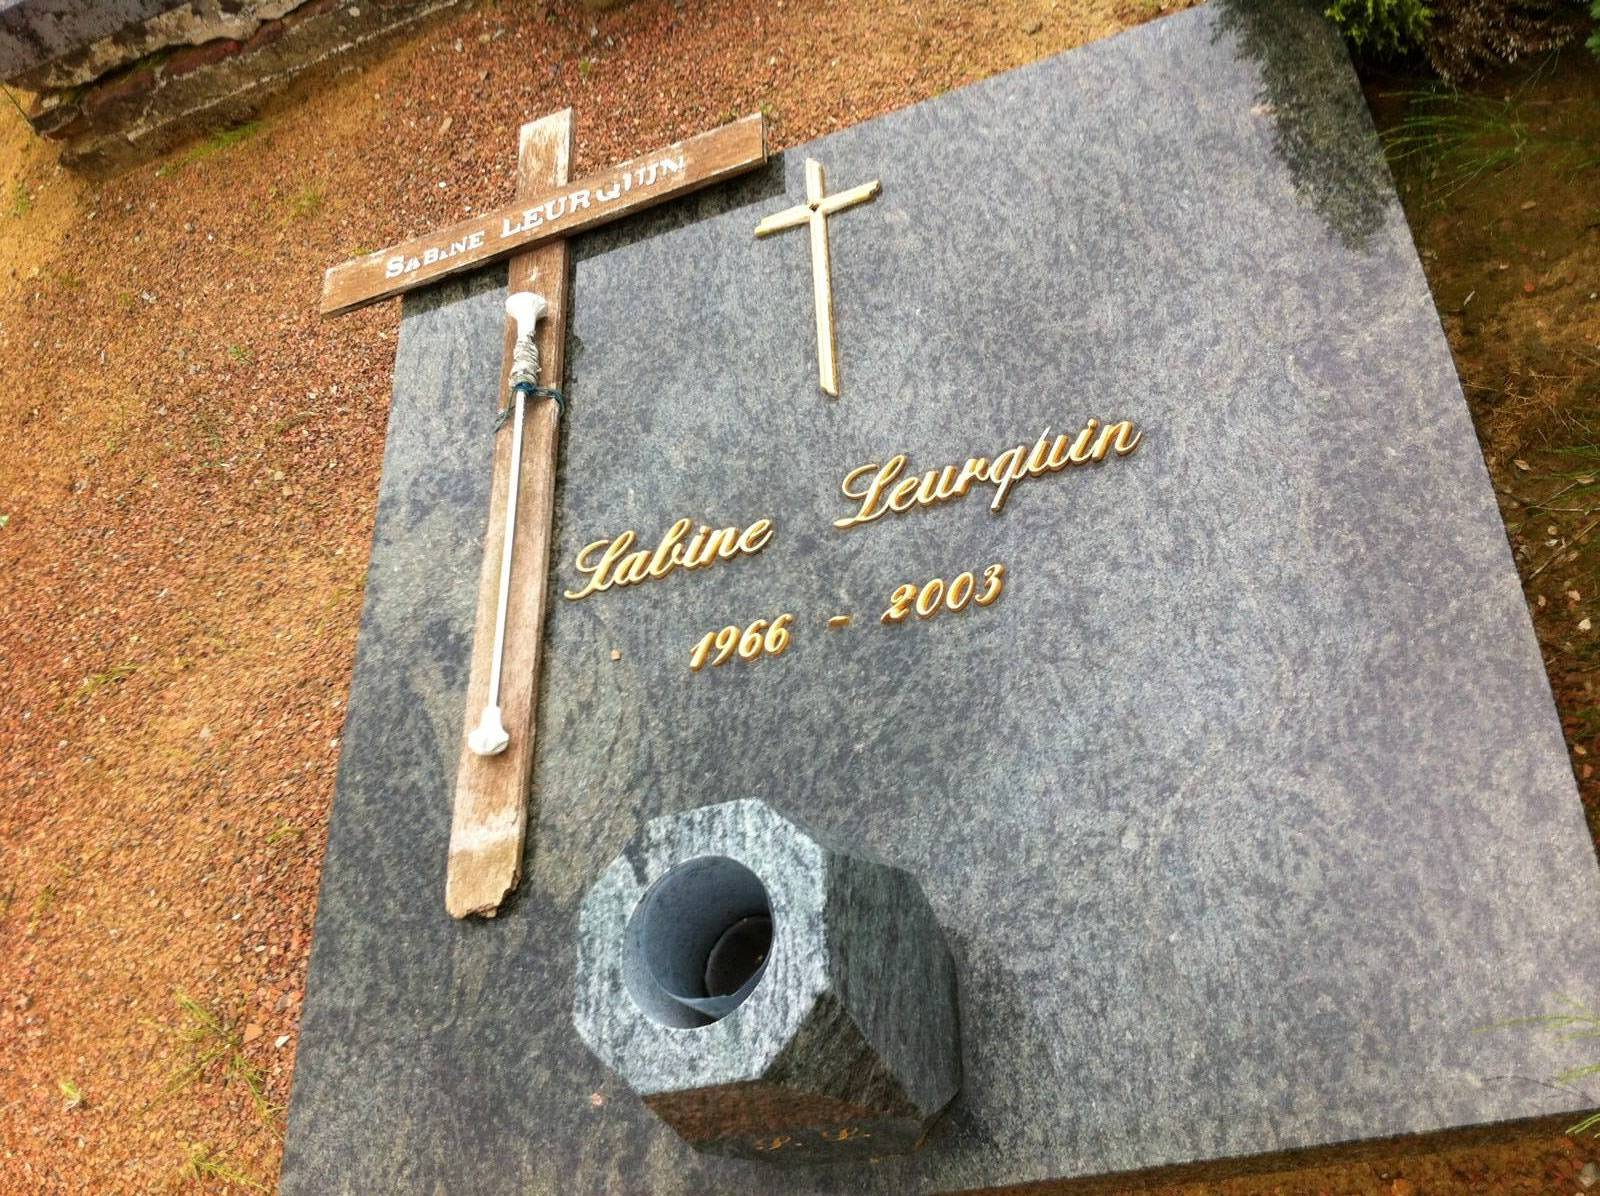vault: (278, 0, 1600, 1182)
